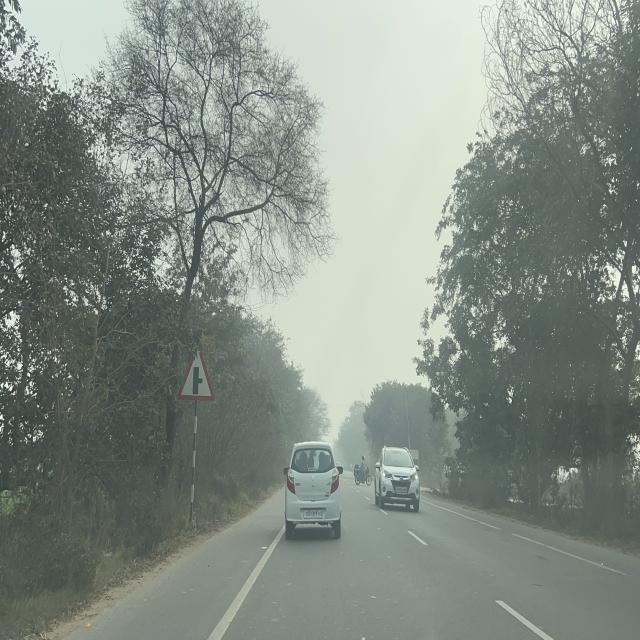SIDE_ROAD_RIGHT: (178, 336, 215, 403)
